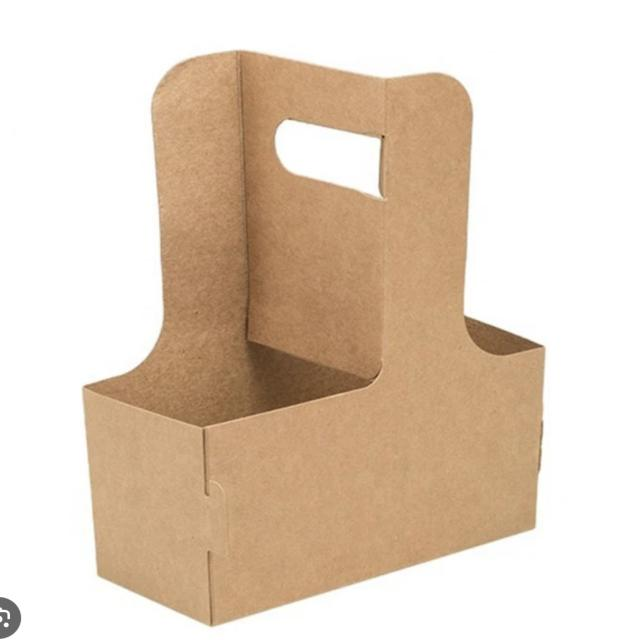biodegradable: (67, 24, 575, 631)
